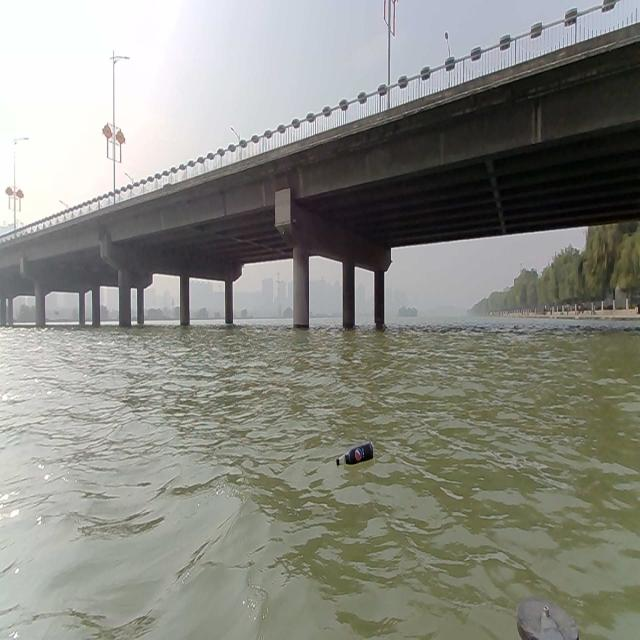bottle: (336, 442, 374, 466)
